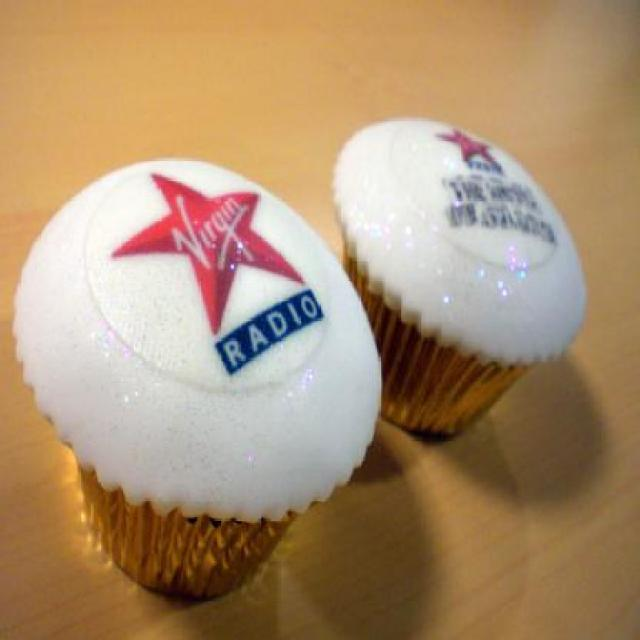Muffin: (10, 155, 381, 598), (328, 115, 587, 442)
